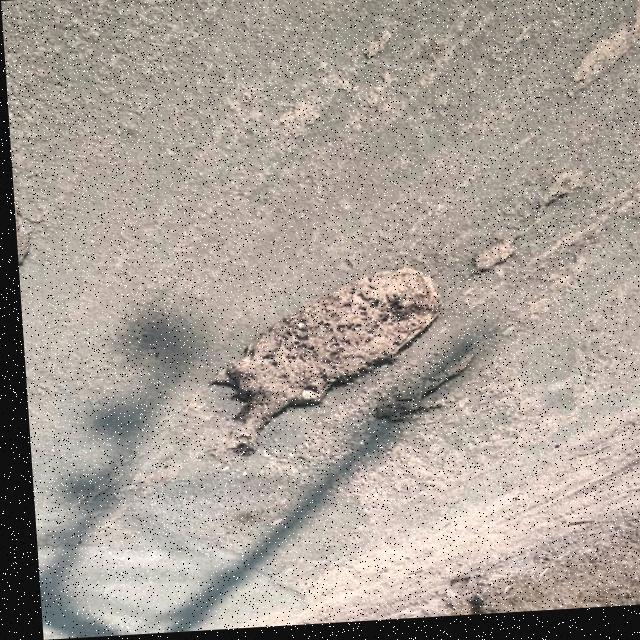pothole: (194, 267, 446, 464), (362, 353, 476, 431)
